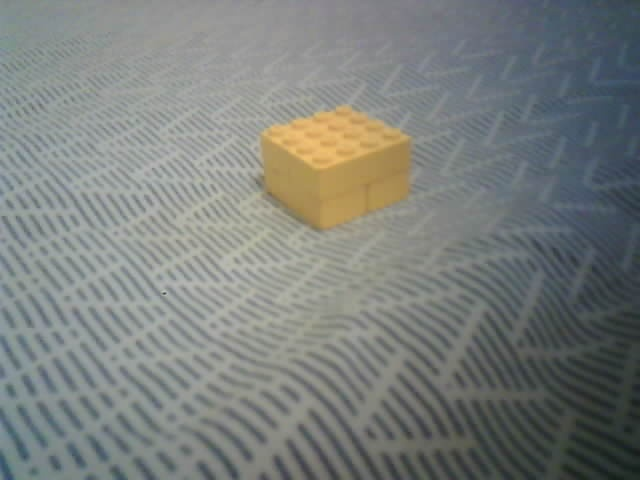lego: (258, 103, 412, 231)
